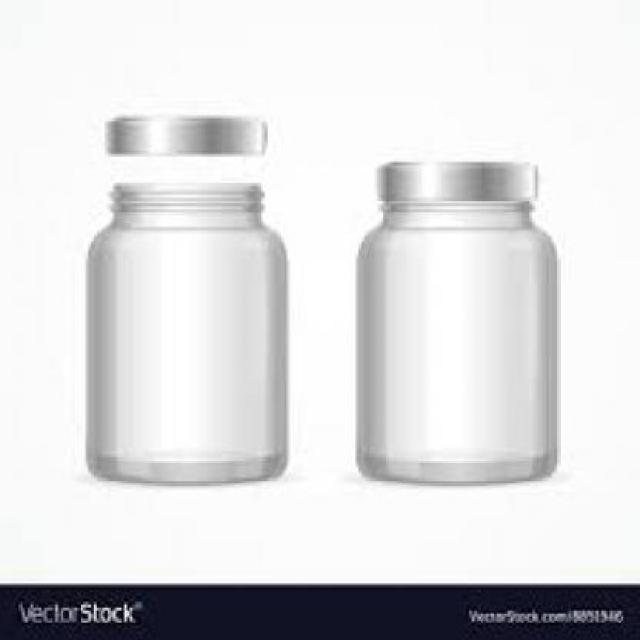kaca: (80, 183, 285, 480), (354, 202, 557, 484)
